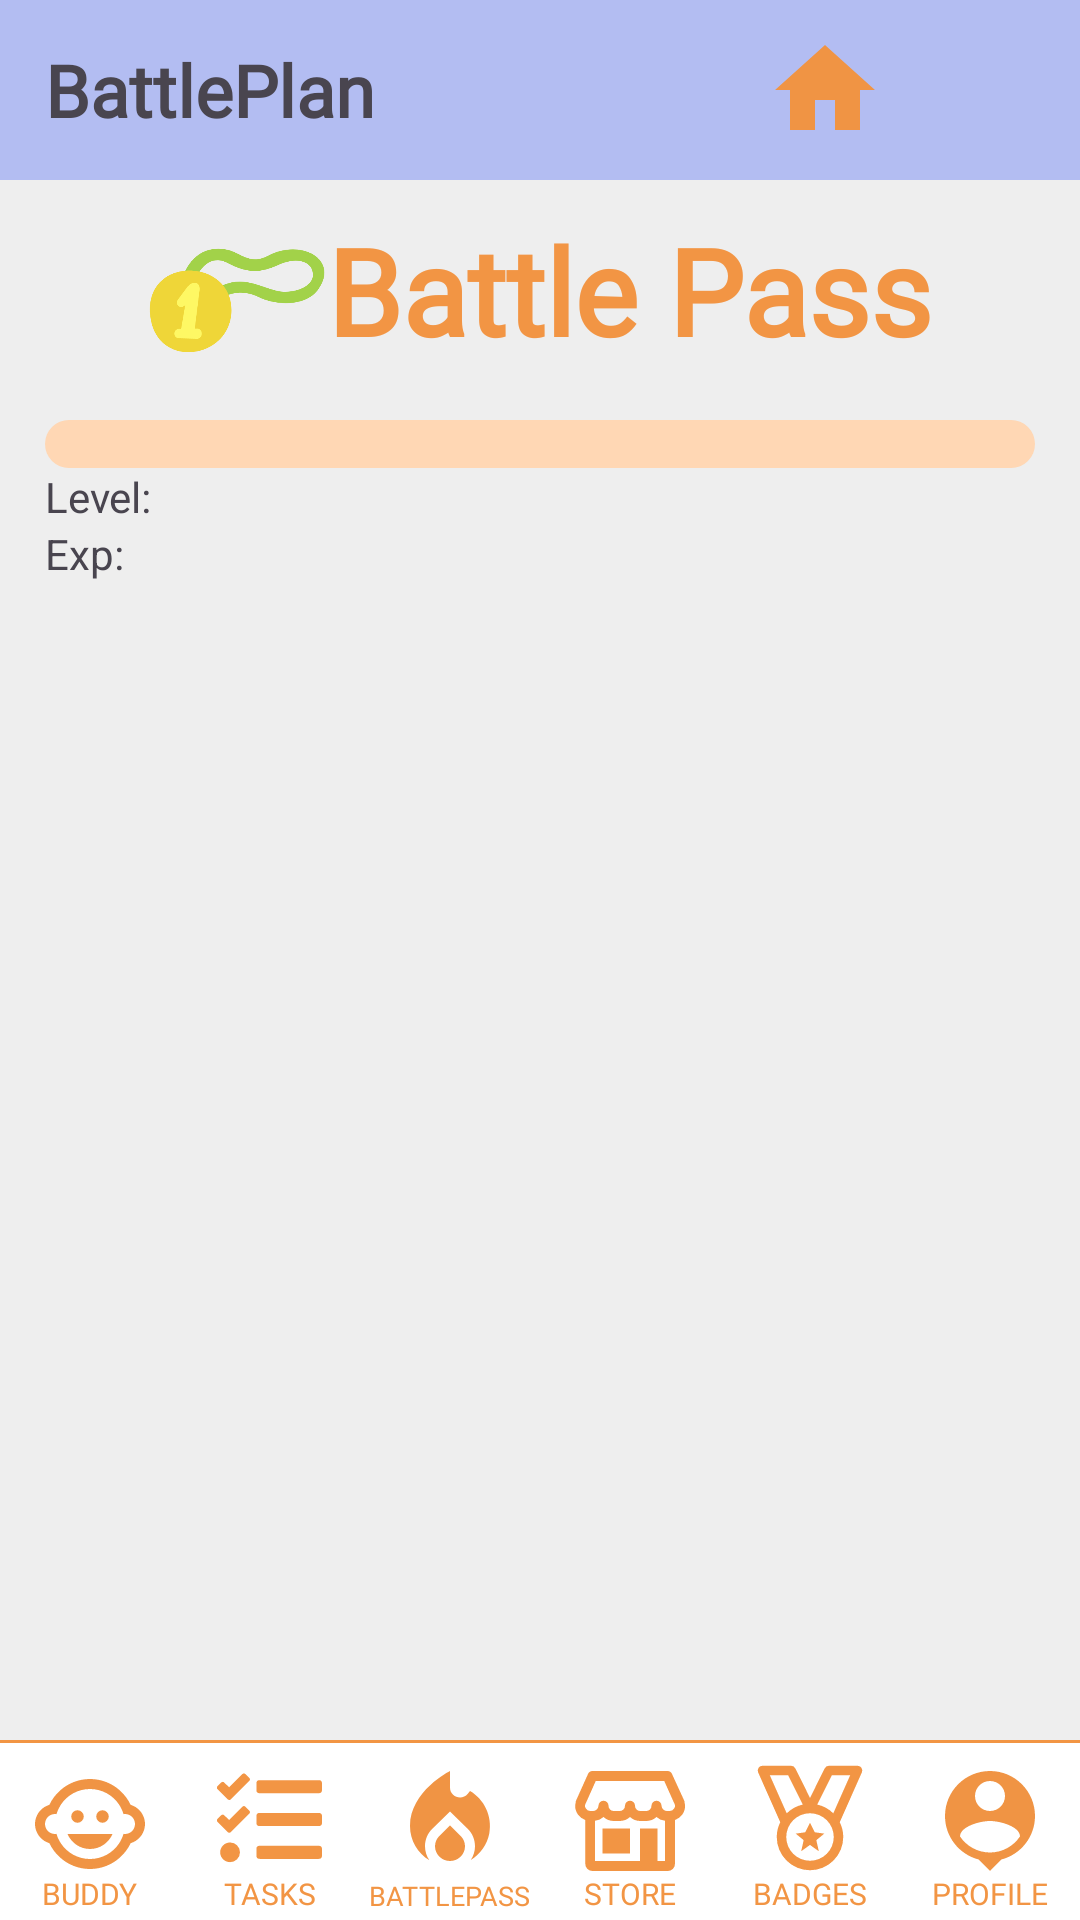

Icons on this 1080×1920 Android screen, each with the point to tap as point (x, y):
home: point (825, 87)
